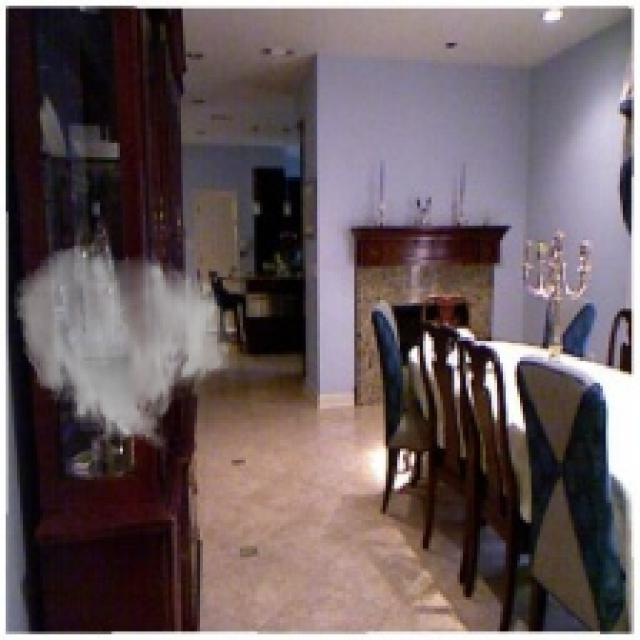smoke: (12, 243, 235, 451)
